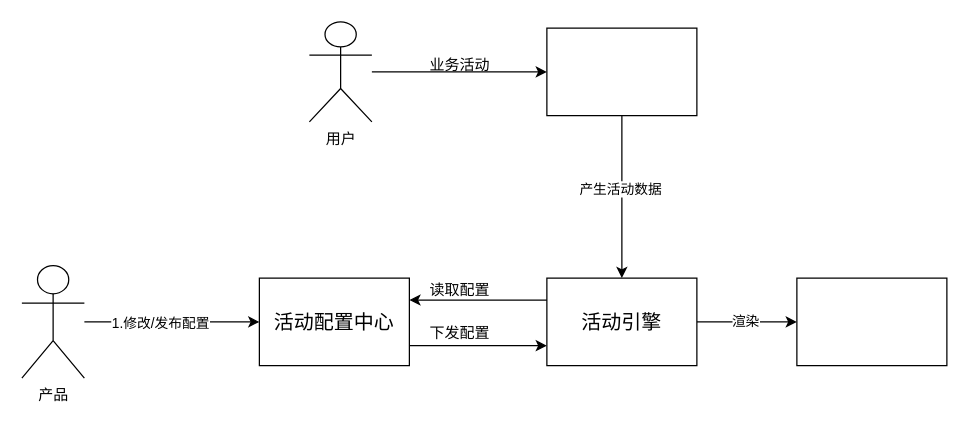
Image size: 969x426. Some labels were removed from this diagram. The box of each missing label's shape, as (x1, y1, x2, y2) in pixels:
业务系统: (546, 27, 697, 116)
活动H5页面: (796, 277, 947, 366)
